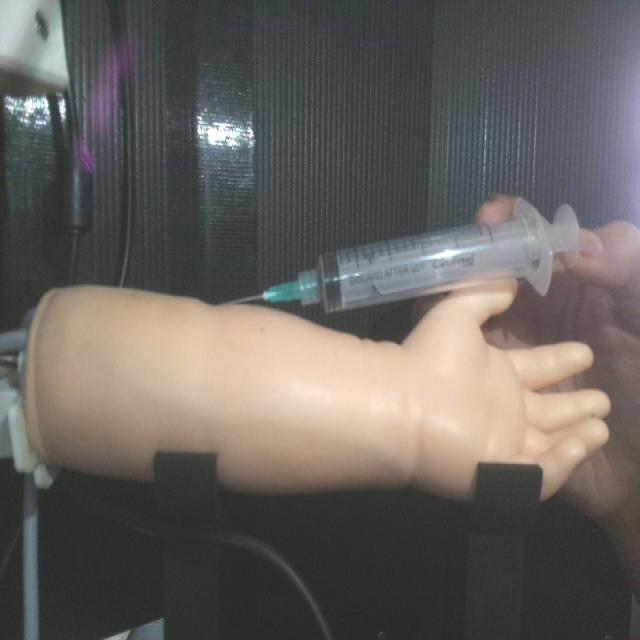Below 15 degrees: (227, 193, 583, 316)
